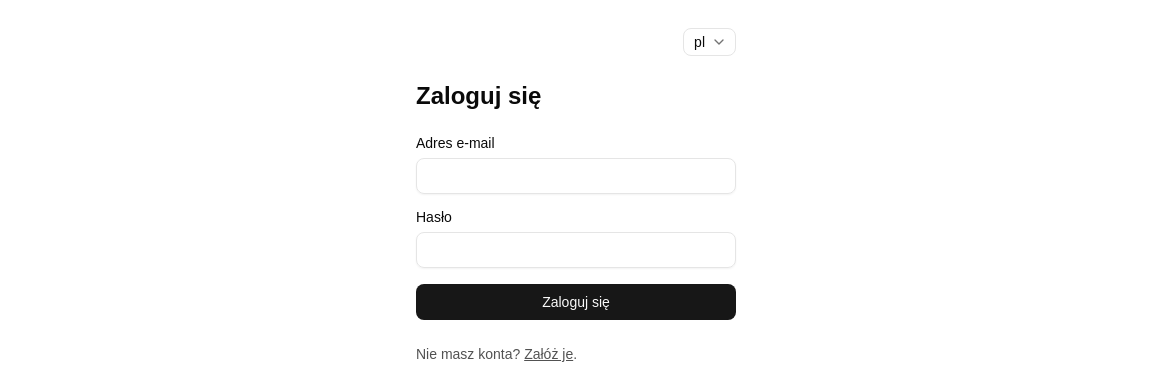
LoginPage › logs in and lands on the project list
Type "reader@example.com" into the field labelled "Adres e-mail".
click(576, 176); type("reader@example.com")  # box left=416, top=158, right=736, bottom=194
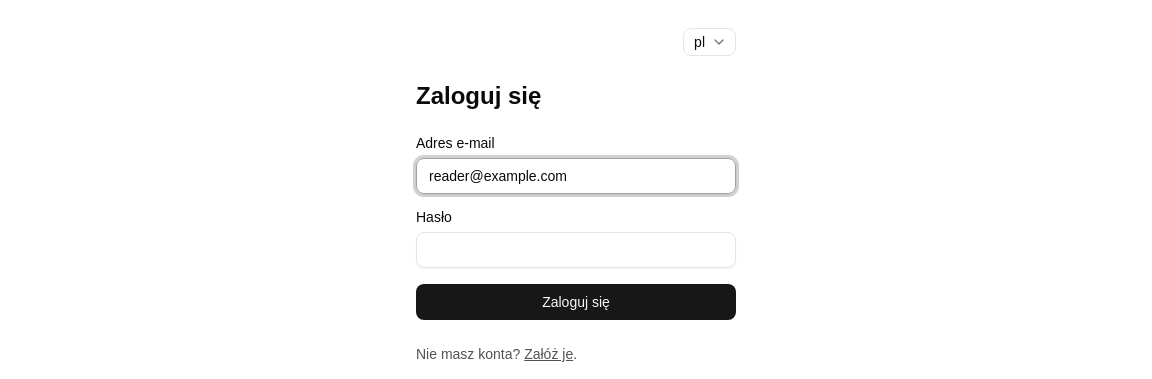
Type "correcthorse" into the password field labelled "Hasło".
click(576, 250); type("correcthorse")  # box left=416, top=232, right=736, bottom=268
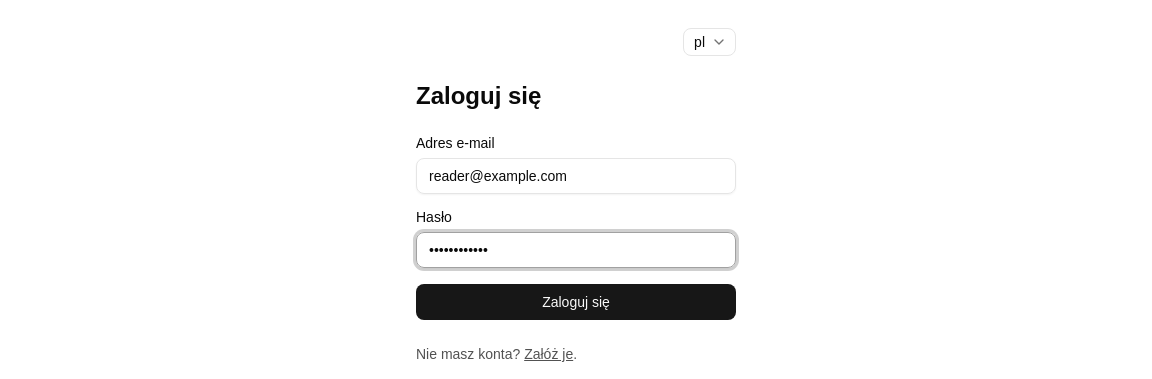
Click the button "Zaloguj się".
click(576, 302)  # box left=416, top=284, right=736, bottom=320
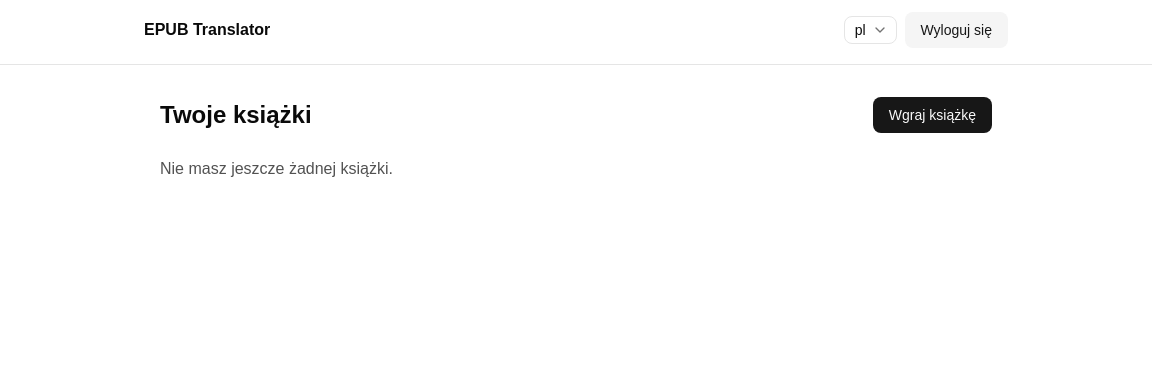
Check: the heading "Twoje książki" is shown, box left=160, top=99, right=312, bottom=131
